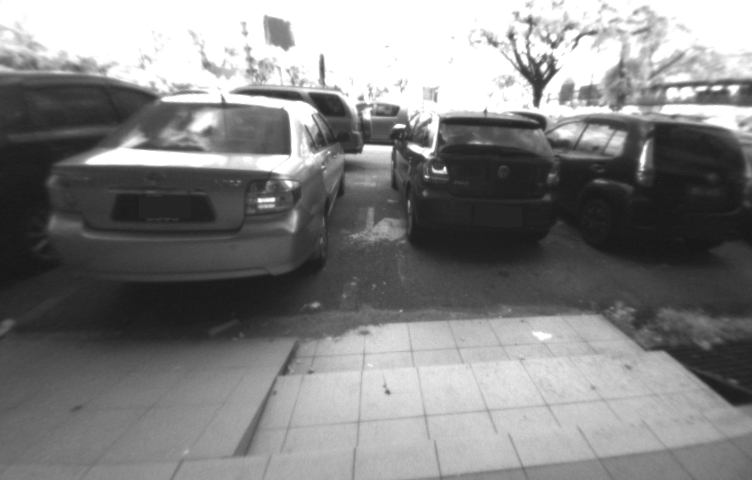down_steps: (238, 303, 725, 472)
mixed_gradient: (169, 331, 332, 475)
uncovered_drainage: (665, 319, 752, 420)
